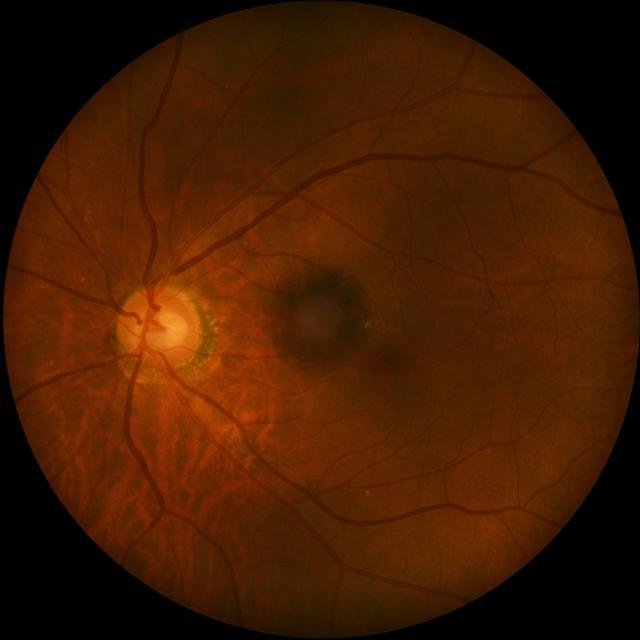OC: (137, 308, 186, 352)
OD: (116, 284, 202, 370)
